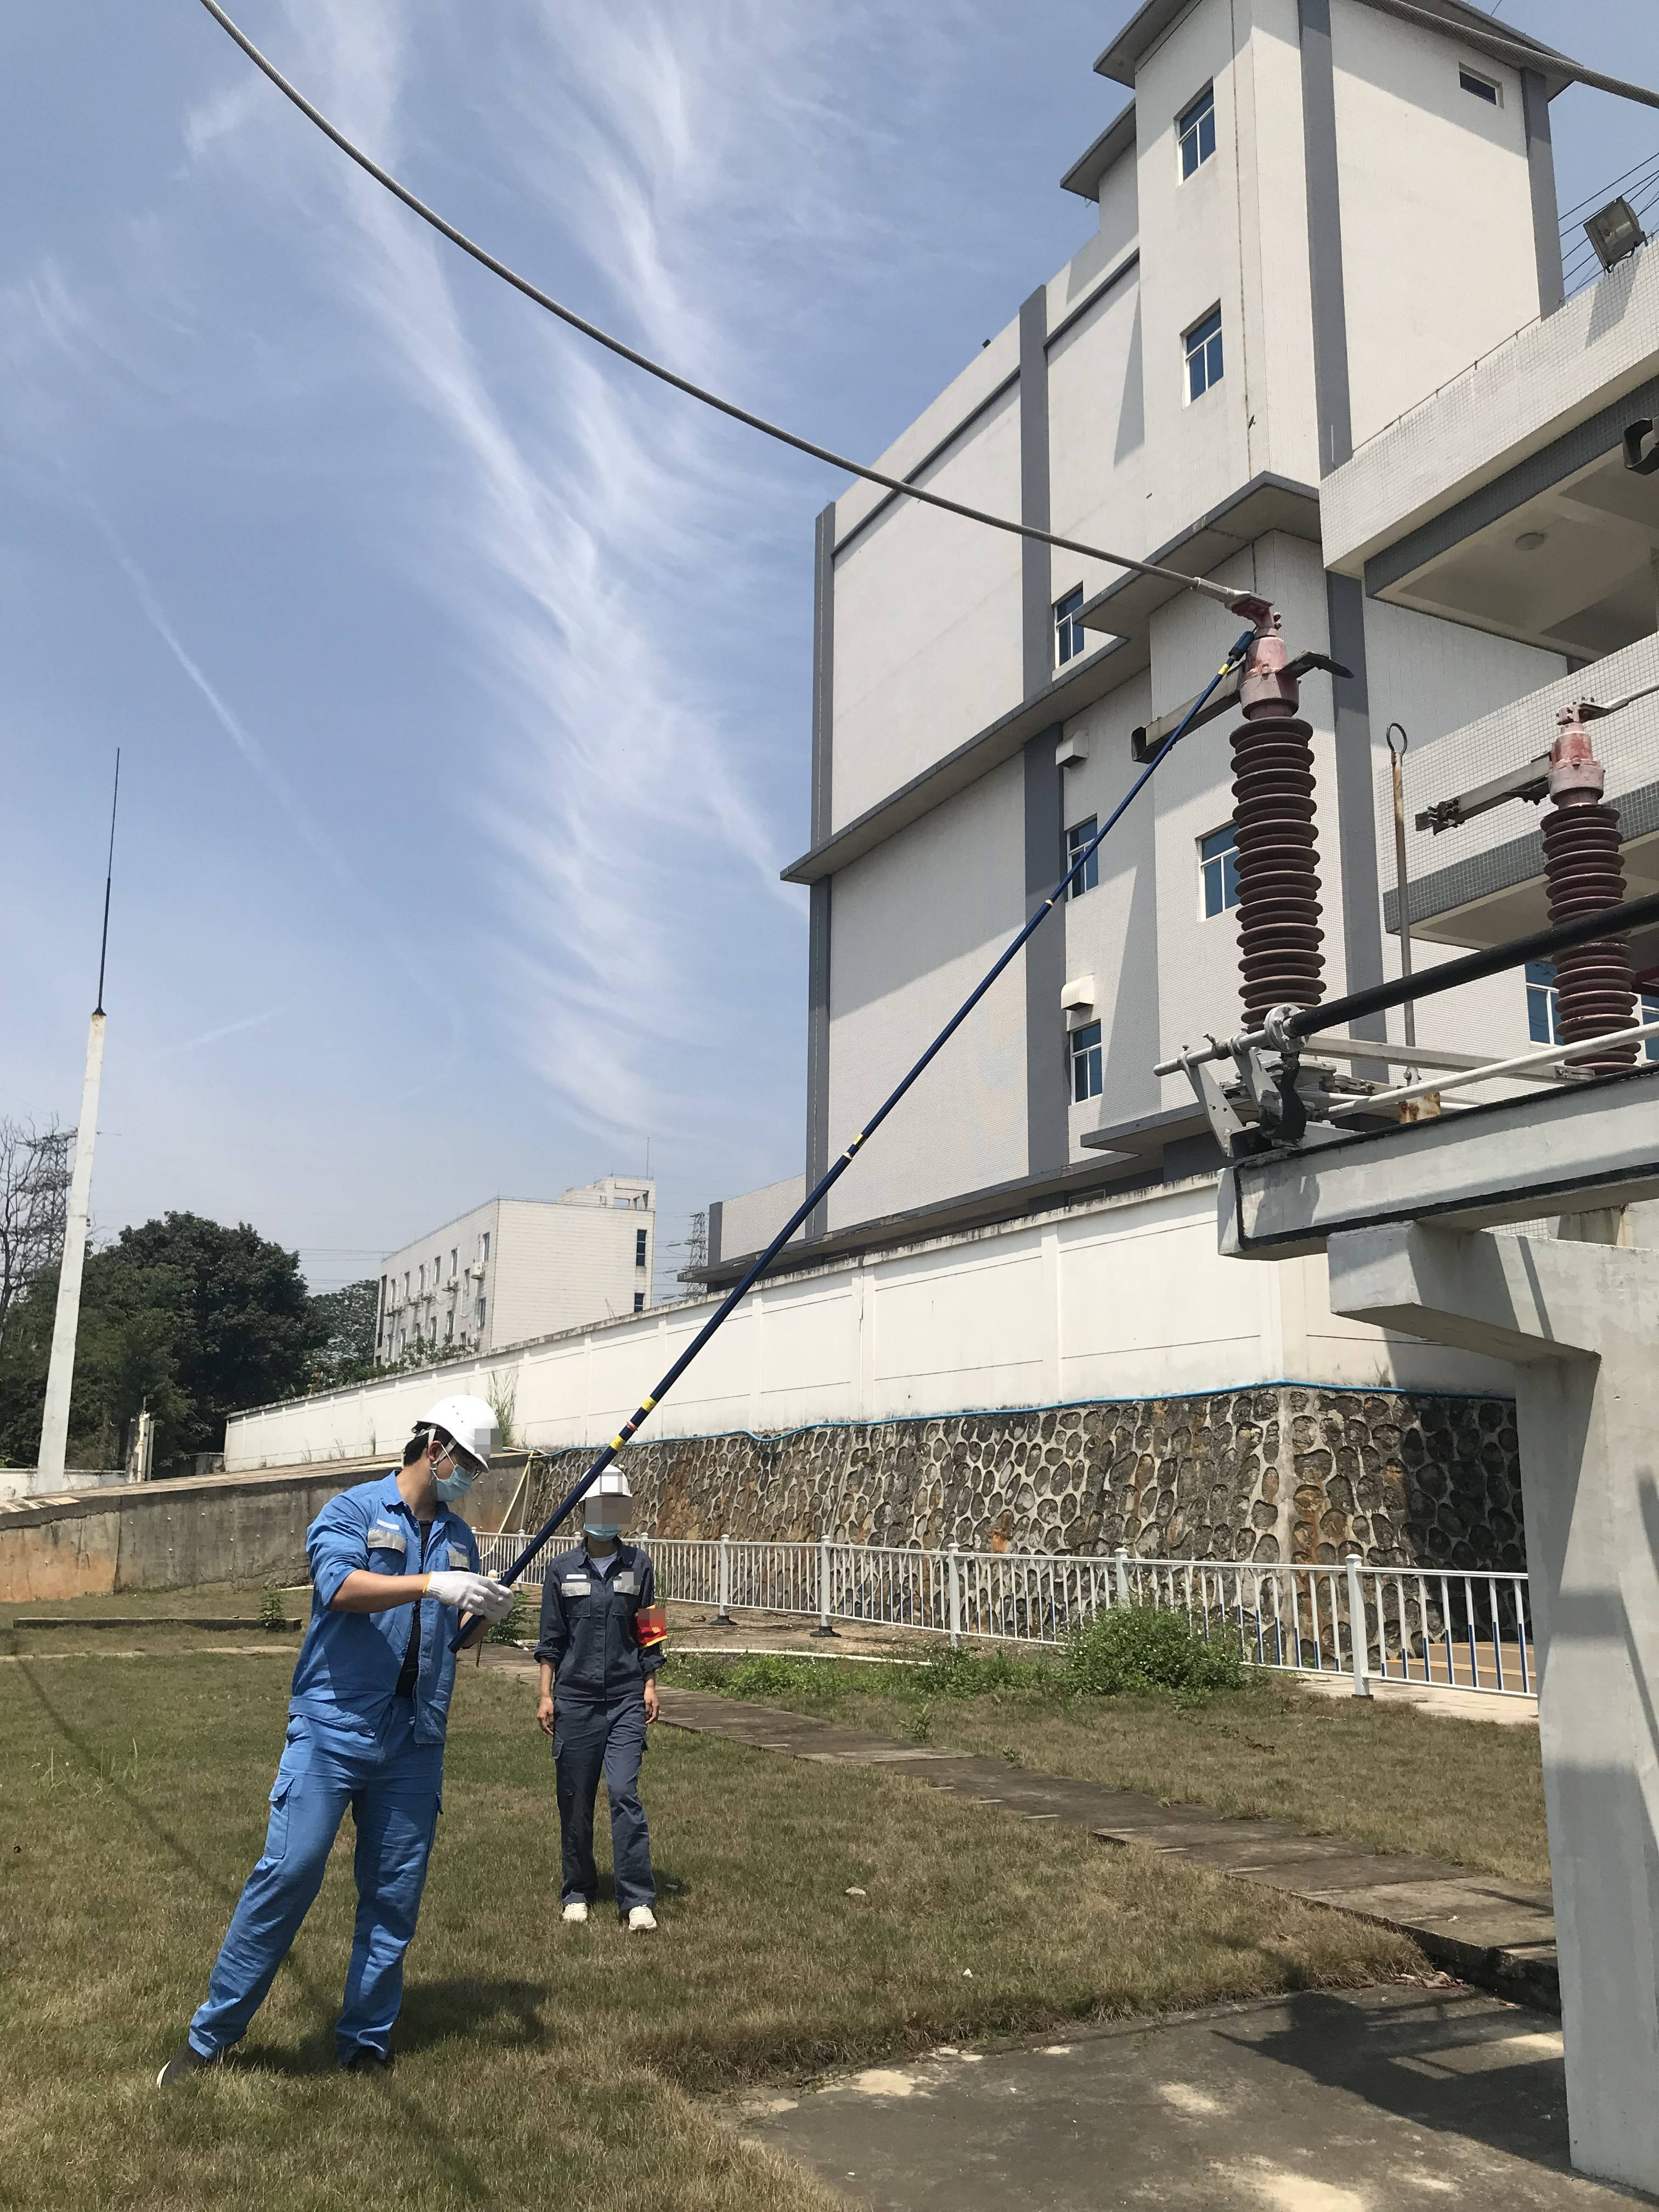downsuit: (235, 1752, 443, 2033), (556, 1705, 652, 1888)
upsuit: (301, 1493, 476, 1759), (549, 1547, 645, 1696)
wrongtop: (307, 1545, 423, 1615), (537, 1634, 559, 1702)
